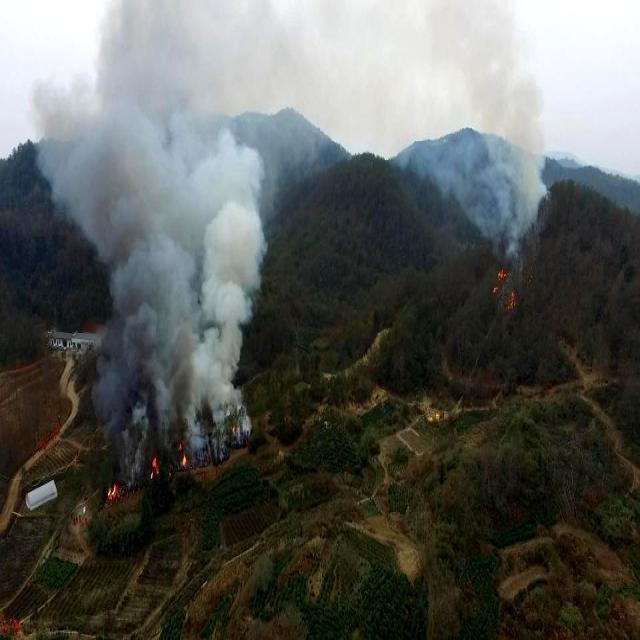Smoke: (52, 0, 272, 431), (430, 10, 550, 234)
